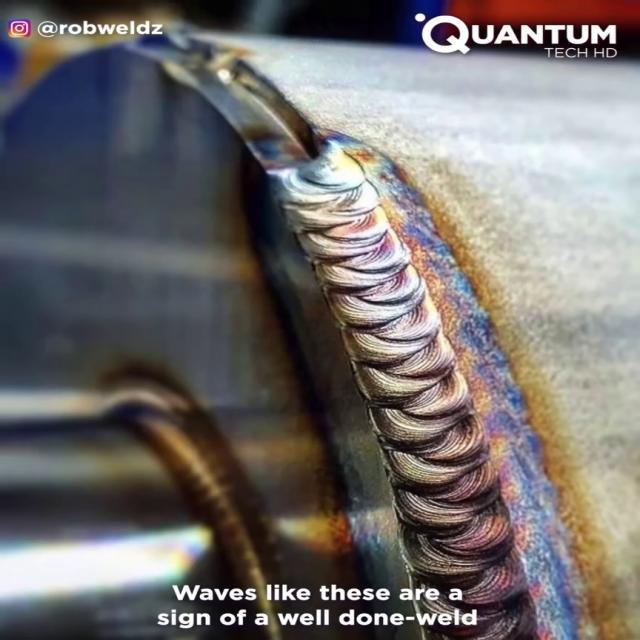Good Welding: (264, 156, 520, 576)
